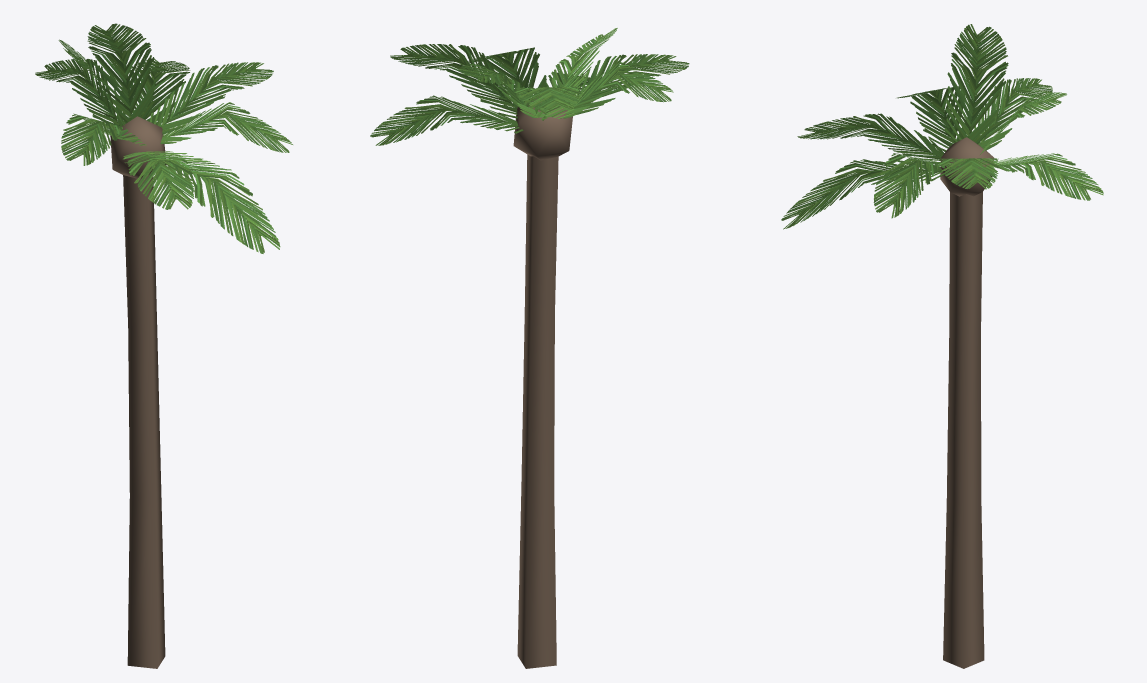
The model's file is WASHINGTONIA_2.glb.
The picture shows the model from 3 angles, left to right: view 1: azimuth 30°, elevation 25°; view 2: azimuth 150°, elevation 25°; view 3: azimuth 270°, elevation 25°; orthographic projection. The views are drawn at different scales.
Visible parts, largest first — view 1: Arv_WASHINGTONIA_lod2; view 2: Arv_WASHINGTONIA_lod2; view 3: Arv_WASHINGTONIA_lod2.
Boxes of the visible parts, bbox=[...] form: Arv_WASHINGTONIA_lod2: bbox=[35, 23, 292, 668]; Arv_WASHINGTONIA_lod2: bbox=[370, 28, 689, 668]; Arv_WASHINGTONIA_lod2: bbox=[781, 24, 1103, 668].
Size of the model in its own units: 4.28 by 9.65 by 5.4.
2 materials, 1 textured.
